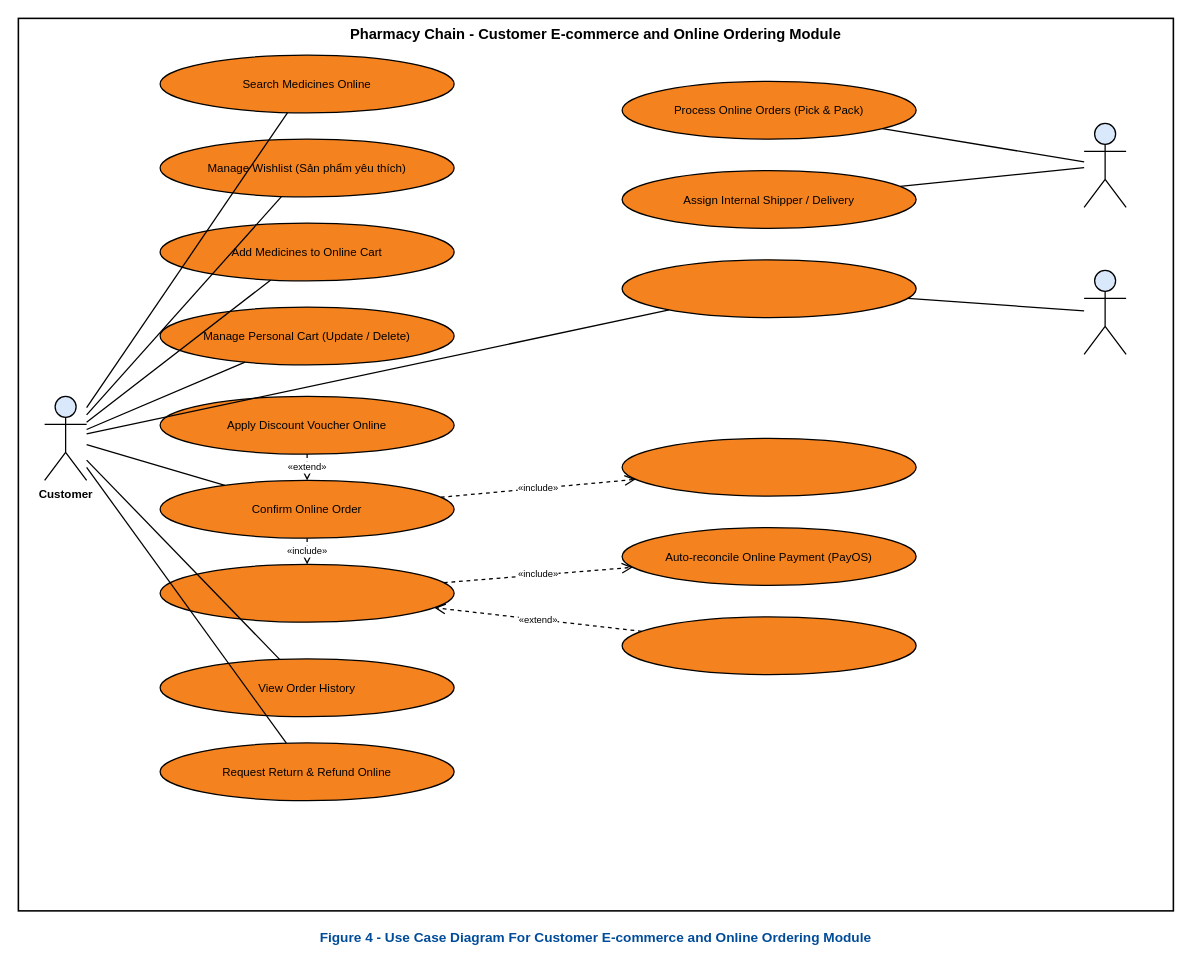
This 1193x971 diagram has some shape labels left out. Here are the shapes that lost their labels. From the top down, the box of each, then its label:
(1083, 122, 1126, 207): Pharmacist
(621, 259, 916, 318): Confirm Delivery Handover via QR
(1083, 269, 1126, 354): Shipper
(621, 437, 916, 496): Auto Calculate Delivery Fee by Distance
(159, 563, 454, 622): Pay Online Order via PayOS (VietQR)
(621, 616, 916, 675): Send E-Invoice via Email (Online Order)
